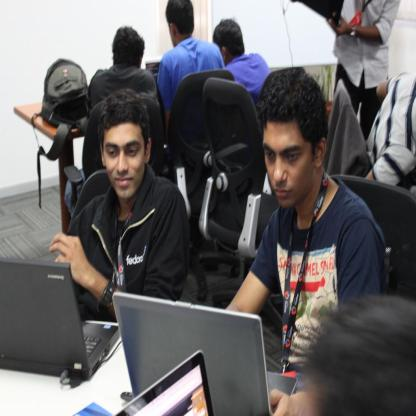board: (103, 290, 273, 415), (0, 257, 120, 382), (114, 350, 214, 416), (144, 59, 160, 84)
